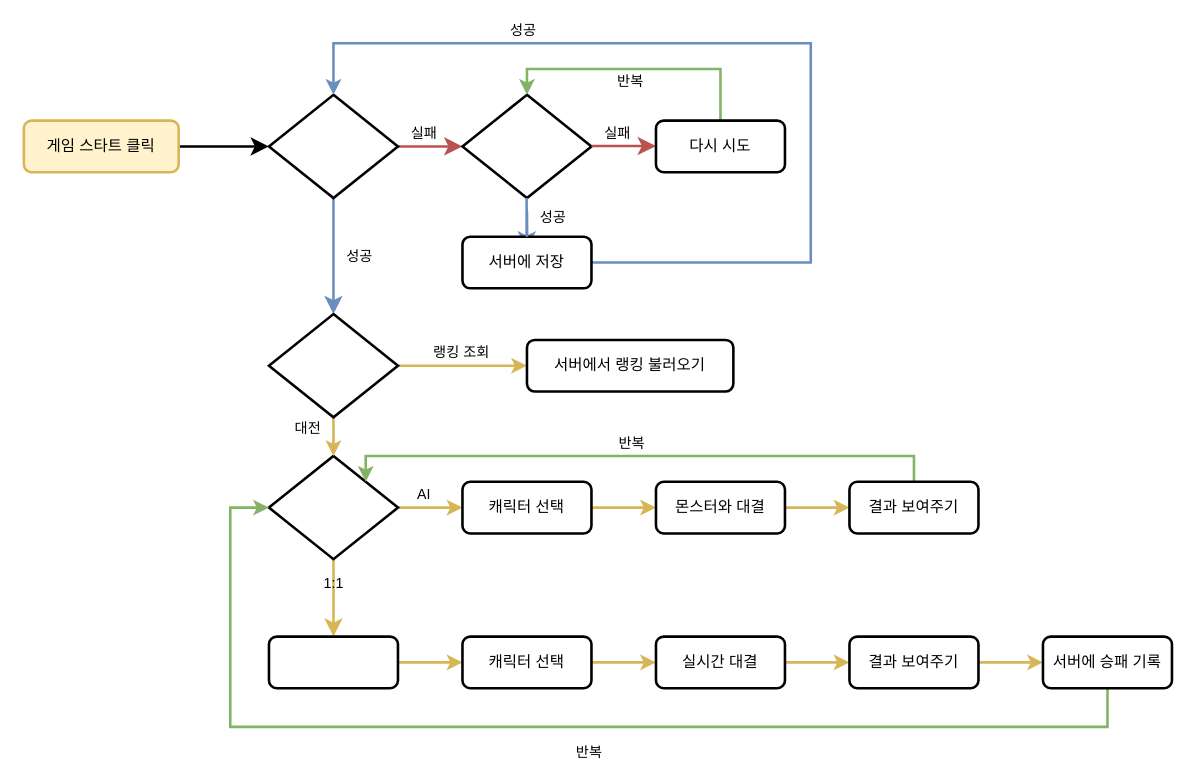
Some shapes in this 1195 by 783 pixel diagram are drawn without their labels. The centre of each missing label's shape, as x and y in pixels:
"로그인" belongs at (x=333, y=146).
"메뉴 선택" belongs at (x=333, y=365).
"모드 선택" belongs at (x=333, y=507).
"방 생성 / 접속" belongs at (x=333, y=662).
"회원가입" belongs at (x=526, y=146).
